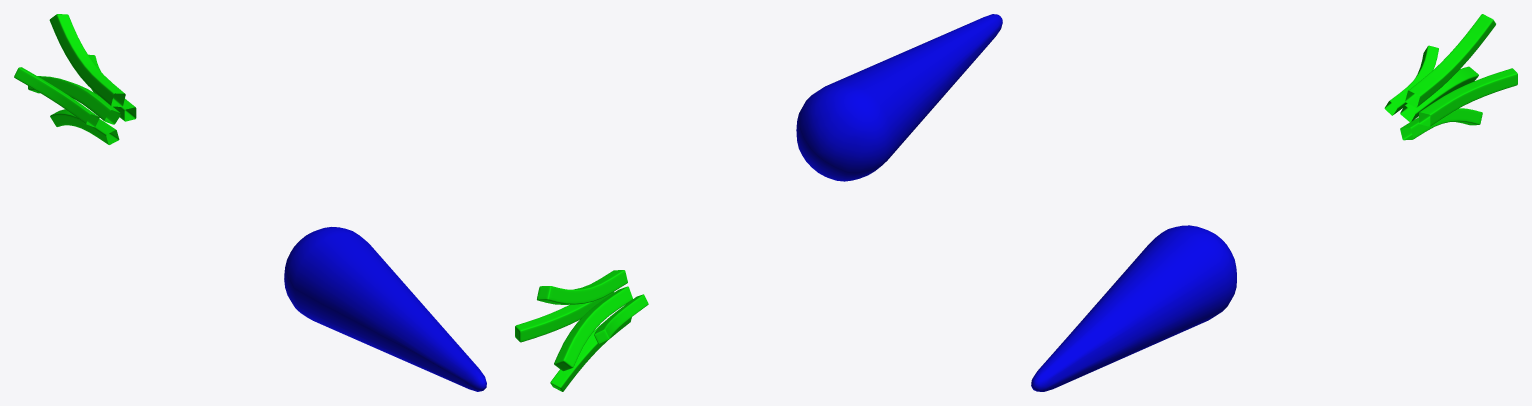
The model's file is karotte_high_explosion.fbx.
3 views of the same model, side by side, from view 1: azimuth 30°, elevation 25°; view 2: azimuth 150°, elevation 25°; view 3: azimuth 330°, elevation 25° (orthographic).
Parts seen in each view (by area): view 1: polySurface14, polySurface15; view 2: polySurface14, polySurface15; view 3: polySurface14, polySurface15.
Part boxes in pixels (x1,y1,x2,y2): polySurface14: [284, 227, 486, 391]; polySurface15: [14, 14, 136, 144]; polySurface14: [796, 14, 1002, 181]; polySurface15: [515, 270, 648, 391]; polySurface14: [1031, 225, 1236, 391]; polySurface15: [1384, 14, 1517, 140].
Bounding box in the file's own units: 0.2397 × 0.2823 × 2.12.
